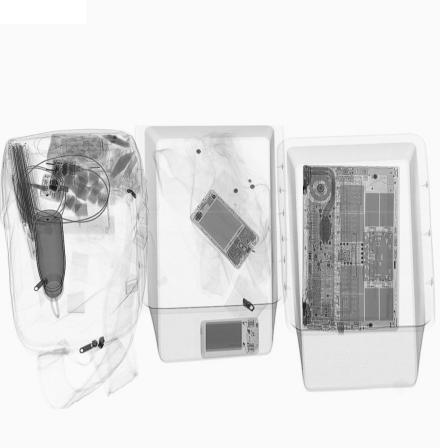Powerbank: (198, 317, 260, 357)
